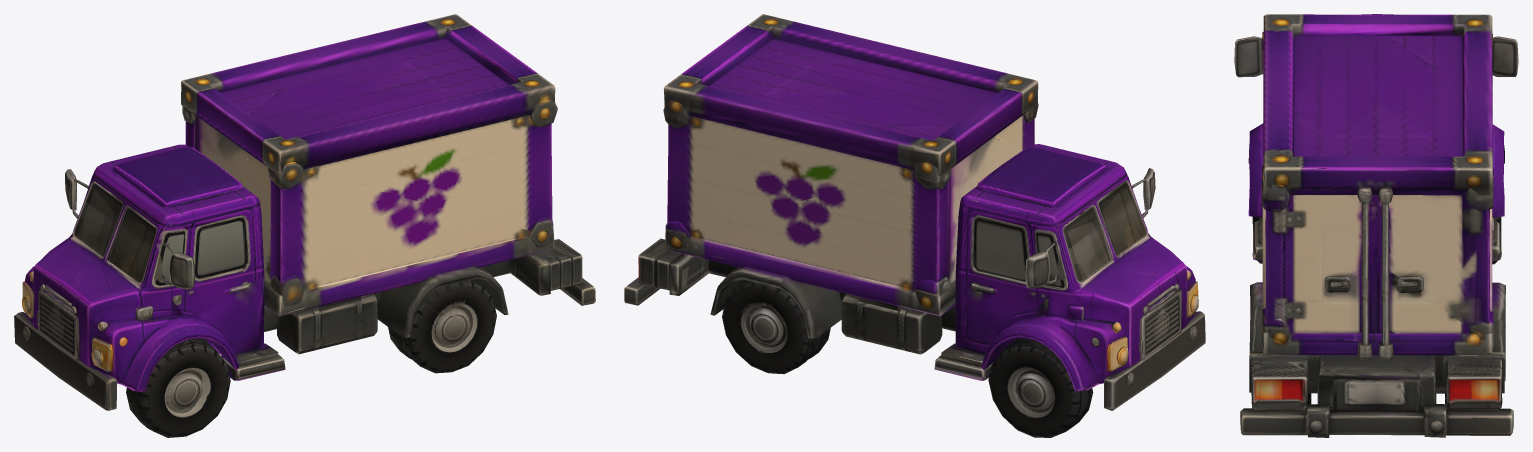
The model's file is delivery_truck.glb.
The picture shows the model from 3 angles, left to right: view 1: azimuth 30°, elevation 25°; view 2: azimuth 150°, elevation 25°; view 3: azimuth 270°, elevation 25°; orthographic projection. The views are drawn at different scales.
Size of the model in its own units: 1 by 0.5184 by 0.447.
1 material, 1 textured.
